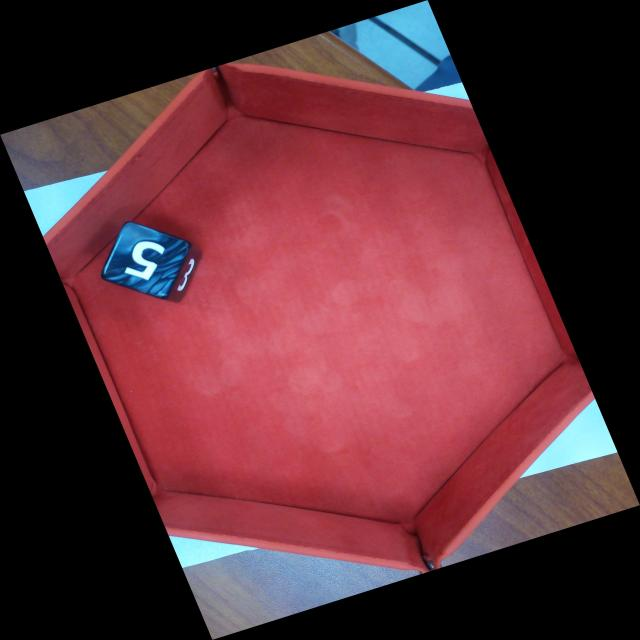dice: (99, 221, 192, 300)
